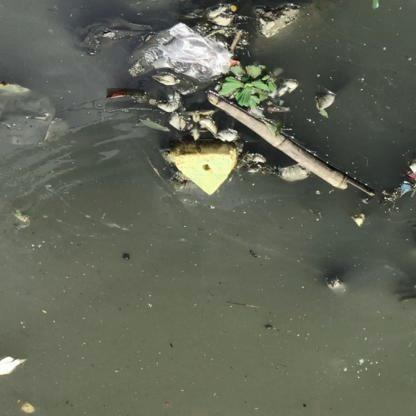Trash: (124, 17, 230, 74), (171, 136, 235, 198), (150, 86, 183, 112), (106, 84, 144, 106), (1, 348, 25, 382), (152, 70, 176, 90), (399, 176, 413, 201)
